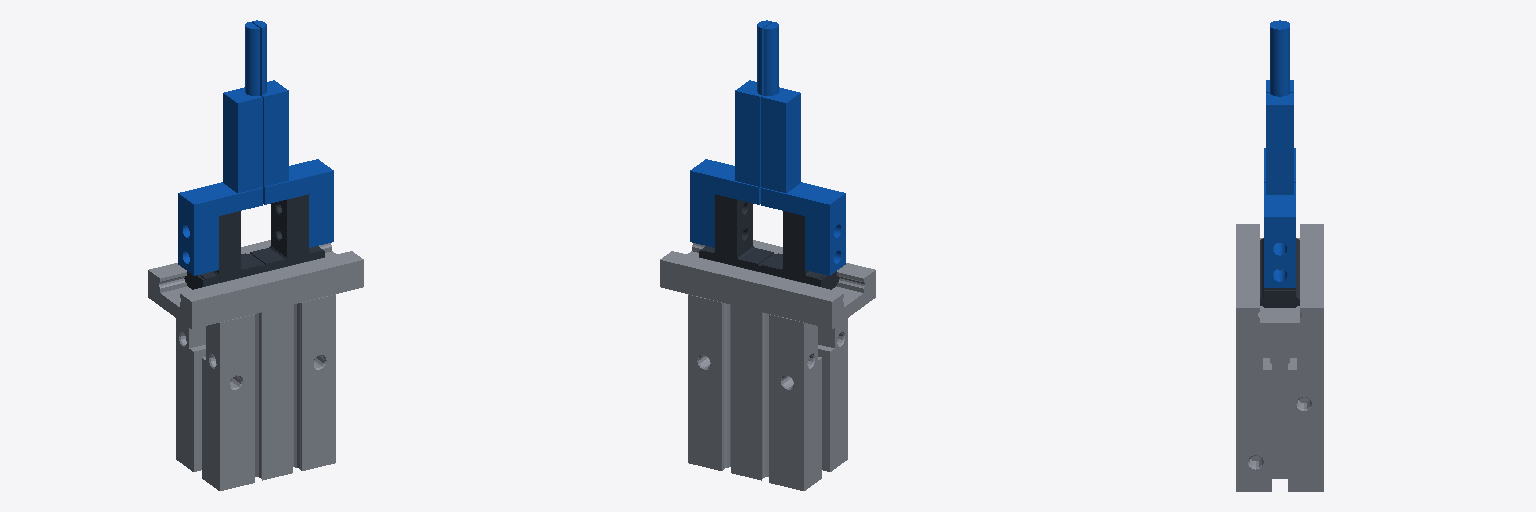
robot.urdf — mhzl2_20d_with_fingertips:
<?xml version="1.0"?>
<robot name="mhzl2_20d_with_fingertips">
  <!-- SI units: m, kg, rad. Mesh vertices are already in meters. -->
  <!-- q=0: closed, q=0.009: open. Right mimics left with opposite axis. -->
  <!-- Inertias are estimates. Fingertip density assumes aluminum, 2700 kg/m^3. -->
  <!-- Effort 33 N per jaw (datasheet: 66 N gripping force of the opening side for BOTH jaws, 42 N closing; 66 N per jaw pierced the thin hole wall). Velocity 0.05 m/s is an editable simulation default. -->
  <material name="body_gray">
    <color rgba="0.58 0.60 0.64 1" />
  </material>
  <material name="jaw_steel">
    <color rgba="0.22 0.25 0.29 1" />
  </material>
  <material name="finger_blue">
    <color rgba="0.10 0.40 0.75 1" />
  </material>
  <link name="mhzl2_base_link">
    <inertial>
      <origin xyz="2.89671410659e-05 -5.4270840864e-06 0.0349663498318" rpy="0 0 0" />
      <mass value="0.220682701839" />
      <inertia ixx="9.94186732479e-05" iyy="0.000121817669286" izz="5.25931759376e-05" ixy="1.0384273215e-07" ixz="-1.26770280594e-07" iyz="-6.88108477766e-09" />
    </inertial>
    <visual>
      <origin xyz="0 0 0" rpy="0 0 0" />
      <geometry>
        <mesh filename="package://mhzl2_20d_description/meshes/body.stl" scale="1 1 1" />
      </geometry>
      <material name="body_gray" />
    </visual>
    <collision>
      <origin xyz="0 0 0" rpy="0 0 0" />
      <geometry>
        <mesh filename="package://mhzl2_20d_description/meshes/body.stl" scale="1 1 1" />
      </geometry>
    </collision>
  </link>
  <link name="mhzl2_left_jaw_link">
    <inertial>
      <origin xyz="0.000678573706839 4.36690990065e-14 -0.0173863154899" rpy="0 0 0" />
      <mass value="0.0246586490805" />
      <inertia ixx="1.85754703073e-06" iyy="2.18841962239e-06" izz="8.28895609536e-07" ixy="3.52001383044e-17" ixz="1.11213029842e-07" iyz="2.3442984885e-18" />
    </inertial>
    <visual>
      <origin xyz="0 0 0" rpy="0 0 0" />
      <geometry>
        <mesh filename="package://mhzl2_20d_description/meshes/jaw_left.stl" scale="1 1 1" />
      </geometry>
      <material name="jaw_steel" />
    </visual>
    <collision>
      <origin xyz="0 0 0" rpy="0 0 0" />
      <geometry>
        <mesh filename="package://mhzl2_20d_description/meshes/jaw_left.stl" scale="1 1 1" />
      </geometry>
    </collision>
  </link>
  <link name="mhzl2_left_fingertip_link">
    <inertial>
      <origin xyz="0.00205699269931 1.12872986514e-09 0.0123896917199" rpy="0 0 0" />
      <mass value="0.0162883181265" />
      <inertia ixx="5.33803292834e-06" iyy="6.23509452408e-06" izz="1.15197360513e-06" ixy="-1.5233053529e-13" ixz="-1.72149090423e-06" iyz="-7.74891521698e-13" />
    </inertial>
    <visual>
      <origin xyz="0 0 0" rpy="0 0 0" />
      <geometry>
        <mesh filename="package://mhzl2_20d_description/meshes/fingertip_left.stl" scale="1 1 1" />
      </geometry>
      <material name="finger_blue" />
    </visual>
    <collision>
      <origin xyz="0 0 0" rpy="0 0 0" />
      <geometry>
        <mesh filename="package://mhzl2_20d_description/meshes/fingertip_left.stl" scale="1 1 1" />
      </geometry>
    </collision>
  </link>
  <link name="mhzl2_right_jaw_link">
    <inertial>
      <origin xyz="-0.000678573706839 -4.36690990065e-14 -0.0173863154899" rpy="0 0 0" />
      <mass value="0.0246586490805" />
      <inertia ixx="1.85754703073e-06" iyy="2.18841962239e-06" izz="8.28895609536e-07" ixy="3.52001383044e-17" ixz="-1.11213029842e-07" iyz="-2.3442984885e-18" />
    </inertial>
    <visual>
      <origin xyz="0 0 0" rpy="0 0 0" />
      <geometry>
        <mesh filename="package://mhzl2_20d_description/meshes/jaw_right.stl" scale="1 1 1" />
      </geometry>
      <material name="jaw_steel" />
    </visual>
    <collision>
      <origin xyz="0 0 0" rpy="0 0 0" />
      <geometry>
        <mesh filename="package://mhzl2_20d_description/meshes/jaw_right.stl" scale="1 1 1" />
      </geometry>
    </collision>
  </link>
  <link name="mhzl2_right_fingertip_link">
    <inertial>
      <origin xyz="-0.00205699269931 1.12872986523e-09 0.0123896917199" rpy="0 0 0" />
      <mass value="0.0162883181265" />
      <inertia ixx="5.33803292834e-06" iyy="6.23509452408e-06" izz="1.15197360513e-06" ixy="1.52330535281e-13" ixz="1.72149090423e-06" iyz="-7.74891521661e-13" />
    </inertial>
    <visual>
      <origin xyz="0 0 0" rpy="0 0 0" />
      <geometry>
        <mesh filename="package://mhzl2_20d_description/meshes/fingertip_right.stl" scale="1 1 1" />
      </geometry>
      <material name="finger_blue" />
    </visual>
    <collision>
      <origin xyz="0 0 0" rpy="0 0 0" />
      <geometry>
        <mesh filename="package://mhzl2_20d_description/meshes/fingertip_right.stl" scale="1 1 1" />
      </geometry>
    </collision>
  </link>
  <joint name="mhzl2_left_joint" type="prismatic">
    <parent link="mhzl2_base_link" />
    <child link="mhzl2_left_jaw_link" />
    <origin xyz="-0.01215 0 0.09" rpy="0 0 0" />
    <axis xyz="-1 0 0" />
    <limit lower="0" upper="0.009" effort="10" velocity="0.05" />
  </joint>
  <joint name="mhzl2_left_fingertip_fixed" type="fixed">
    <parent link="mhzl2_left_jaw_link" />
    <child link="mhzl2_left_fingertip_link" />
    <origin xyz="0 0 0" rpy="0 0 0" />
  </joint>
  <joint name="mhzl2_right_joint" type="prismatic">
    <parent link="mhzl2_base_link" />
    <child link="mhzl2_right_jaw_link" />
    <origin xyz="0.01215 0 0.09" rpy="0 0 0" />
    <axis xyz="1 0 0" />
    <limit lower="0" upper="0.009" effort="10" velocity="0.05" />
    <mimic joint="mhzl2_left_joint" multiplier="1" offset="0" />
  </joint>
  <joint name="mhzl2_right_fingertip_fixed" type="fixed">
    <parent link="mhzl2_right_jaw_link" />
    <child link="mhzl2_right_fingertip_link" />
    <origin xyz="0 0 0" rpy="0 0 0" />
  </joint>
  <link name="mhzl2_tcp" />
  <joint name="mhzl2_tcp_fixed" type="fixed">
    <parent link="mhzl2_base_link" />
    <child link="mhzl2_tcp" />
    <origin xyz="0 0 0.15" rpy="0 0 0" />
  </joint>
</robot>

--- Facts derived from the render (not from the file) ---
Views: 3 orthographic renders of the robot side by side, from view 1: azimuth 30°, elevation 25°; view 2: azimuth 150°, elevation 25°; view 3: azimuth 270°, elevation 25°.
Robot: mhzl2_20d_with_fingertips — 6 links, 5 joints (2 prismatic, 3 fixed); root link mhzl2_base_link; default pose: all joints at 0.
Visible links, largest first — view 1: mhzl2_base_link, mhzl2_left_fingertip_link, mhzl2_right_fingertip_link, mhzl2_right_jaw_link, mhzl2_left_jaw_link; view 2: mhzl2_base_link, mhzl2_left_fingertip_link, mhzl2_right_fingertip_link, mhzl2_right_jaw_link, mhzl2_left_jaw_link; view 3: mhzl2_base_link, mhzl2_right_fingertip_link, mhzl2_right_jaw_link.
Link boxes in pixels (<box>): mhzl2_base_link: <box>148,240,363,490</box>; mhzl2_left_fingertip_link: <box>178,22,262,275</box>; mhzl2_right_fingertip_link: <box>252,20,333,247</box>; mhzl2_right_jaw_link: <box>249,194,324,271</box>; mhzl2_left_jaw_link: <box>184,211,263,289</box>; mhzl2_base_link: <box>660,240,875,490</box>; mhzl2_left_fingertip_link: <box>761,22,845,275</box>; mhzl2_right_fingertip_link: <box>690,20,771,247</box>; mhzl2_right_jaw_link: <box>699,194,774,271</box>; mhzl2_left_jaw_link: <box>760,211,839,289</box>; mhzl2_base_link: <box>1236,224,1323,491</box>; mhzl2_right_fingertip_link: <box>1264,25,1295,287</box>; mhzl2_right_jaw_link: <box>1260,242,1299,307</box>.
Size in the robot's own frame: 0.062 by 0.0276 by 0.15 metres.
Meshes: 5 distinct files referenced, 5 mesh visuals loaded (5 binary STL).
